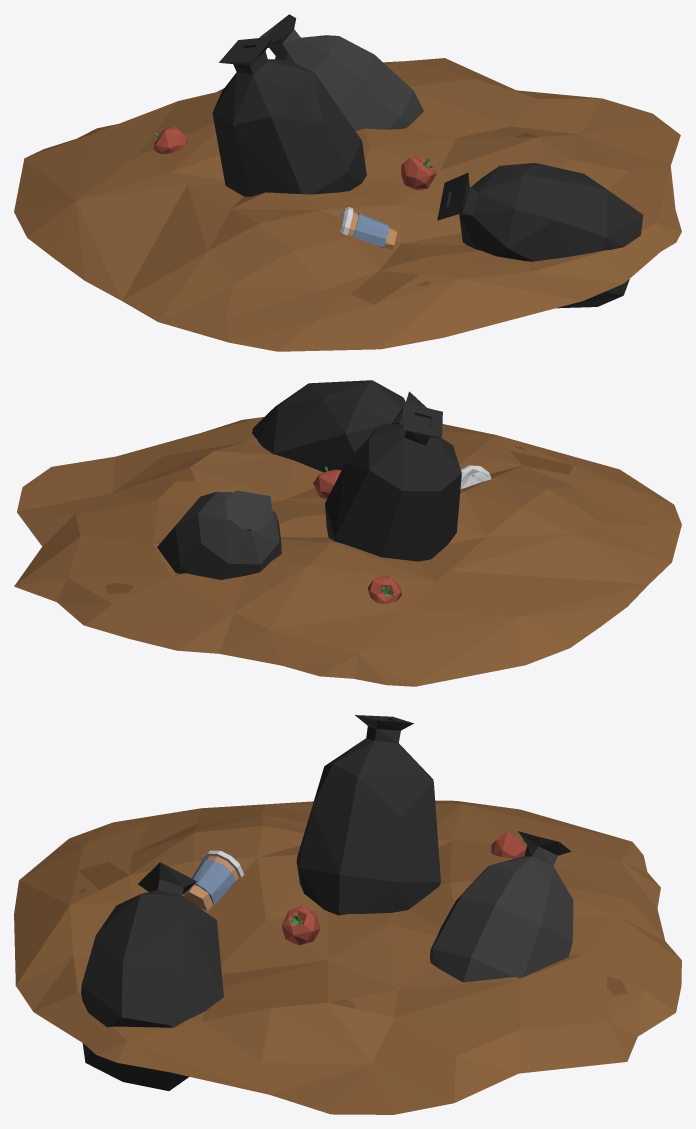
The model's file is Garbage_02.fbx.
3 views of the same model, one above another, from view 1: azimuth 30°, elevation 25°; view 2: azimuth 150°, elevation 25°; view 3: azimuth 270°, elevation 25° (orthographic). The views are drawn at different scales.
Parts seen in each view (by area): view 1: Garbage_02; view 2: Garbage_02; view 3: Garbage_02.
Part boxes in pixels (bbox=[...]): Garbage_02: bbox=[14, 14, 681, 351]; Garbage_02: bbox=[14, 380, 681, 686]; Garbage_02: bbox=[14, 715, 681, 1114].
Bounding box in the file's own units: 192 × 74.69 × 173.
